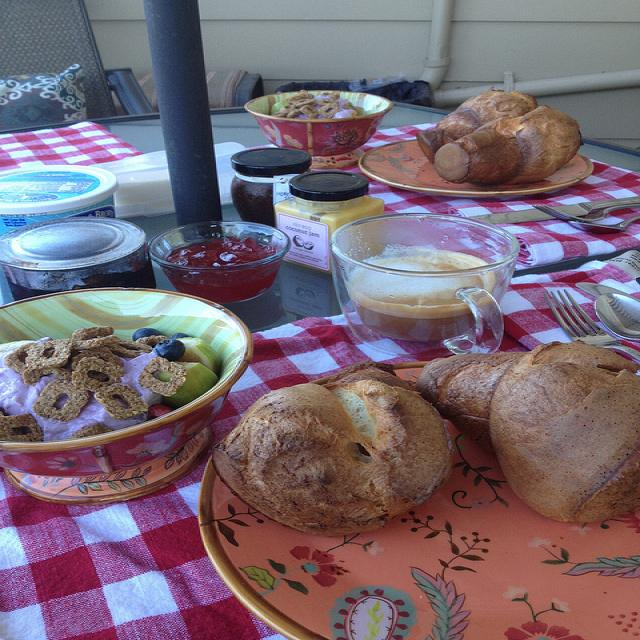chair: (0, 0, 155, 135)
dining table: (6, 84, 638, 640)
